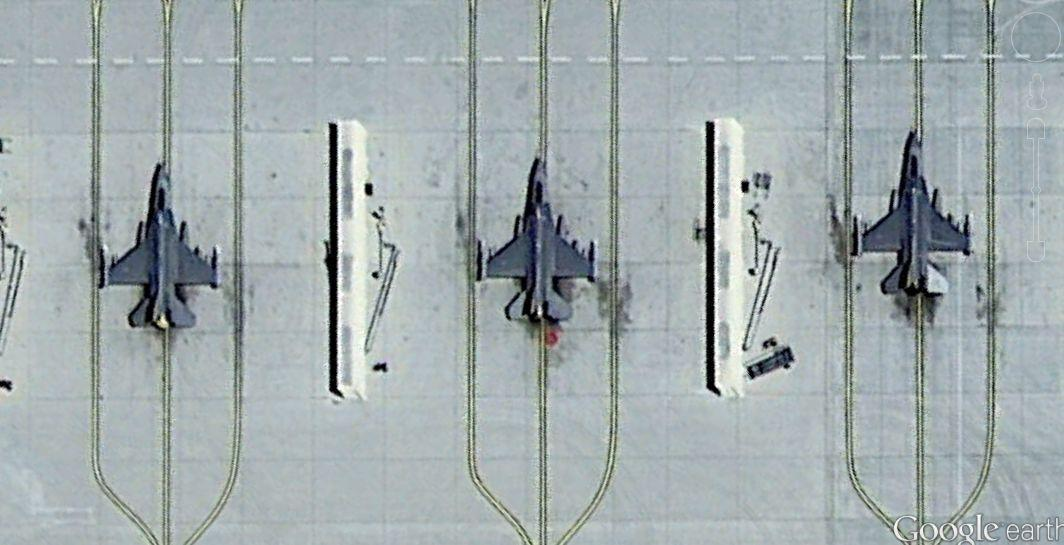F-16: (98, 154, 223, 335), (847, 132, 978, 300), (475, 146, 596, 324)
